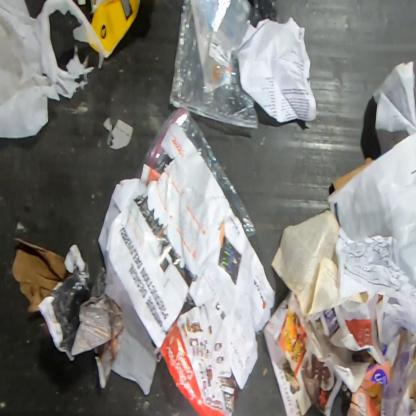cardboard: (10, 237, 68, 314), (90, 0, 142, 53), (345, 357, 392, 415), (330, 156, 374, 192), (89, 44, 99, 52)
soft_plastic: (0, 0, 114, 140), (145, 106, 258, 240), (168, 0, 260, 130), (246, 0, 278, 29)
